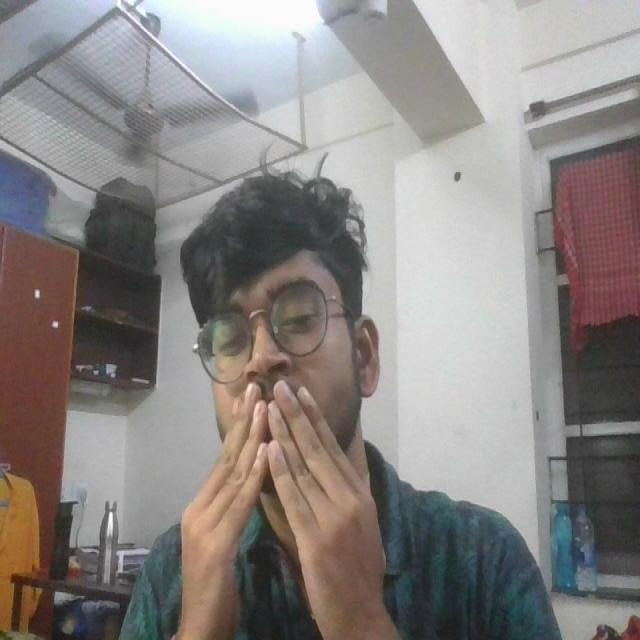Thanks: (160, 373, 410, 640)
